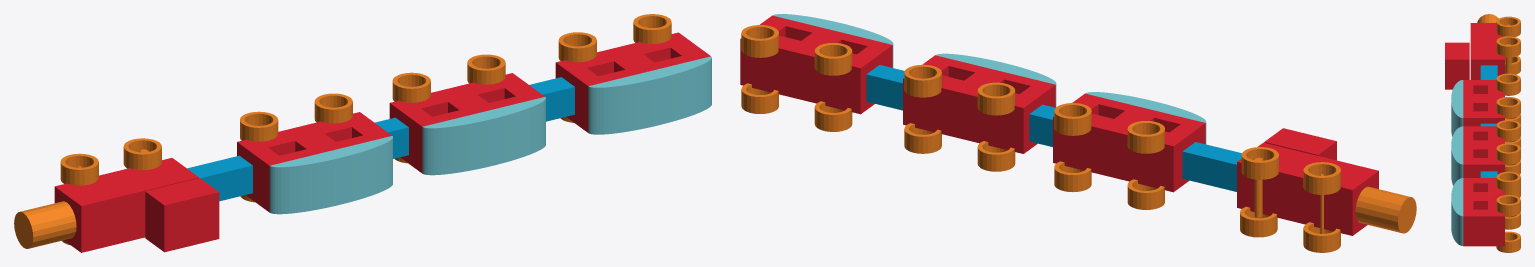
File: tinker.obj
3 views of the same model, side by side, from view 1: azimuth 30°, elevation 25°; view 2: azimuth 150°, elevation 25°; view 3: azimuth 270°, elevation 25° (orthographic). The views are drawn at different scales.
Visible parts, largest first — view 1: group_0_15277357, group_0_7720667, group_0_16089887, group_0_40919; view 2: group_0_15277357, group_0_16089887, group_0_40919, group_0_7720667; view 3: group_0_15277357, group_0_16089887, group_0_7720667, group_0_40919.
Part boxes in pixels (x1,y1,x2,y2): group_0_15277357: (54, 32, 710, 252); group_0_7720667: (269, 56, 711, 214); group_0_16089887: (14, 14, 671, 248); group_0_40919: (187, 77, 574, 201); group_0_15277357: (740, 15, 1378, 235); group_0_16089887: (741, 25, 1416, 252); group_0_40919: (866, 65, 1241, 191); group_0_7720667: (772, 14, 1206, 143); group_0_15277357: (1445, 23, 1504, 246); group_0_16089887: (1477, 14, 1520, 252); group_0_7720667: (1451, 80, 1463, 245); group_0_40919: (1480, 65, 1497, 177).
Size of the model in its own units: 402 by 44 by 62.
